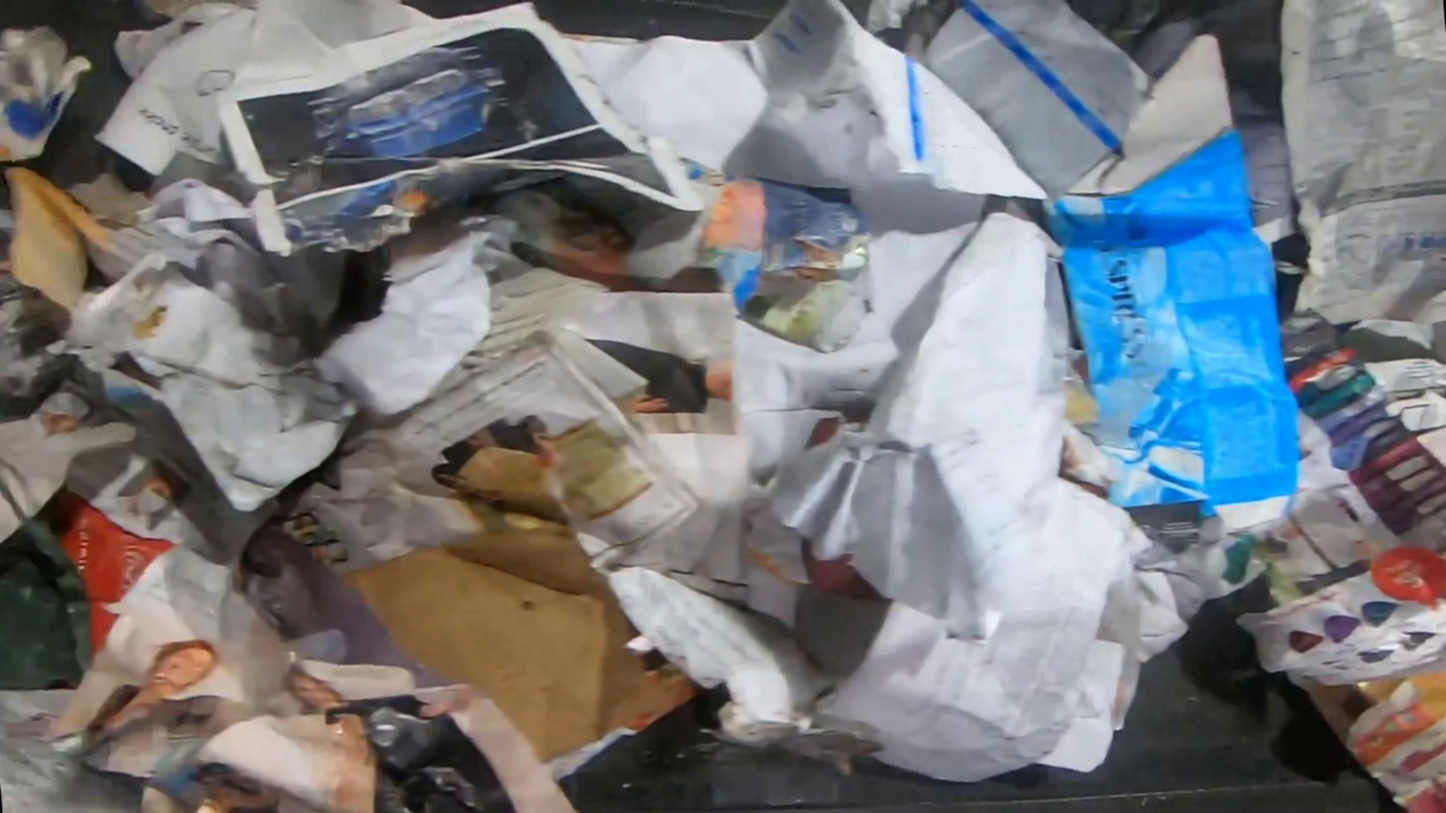cardboard: (1041, 30, 1302, 537), (342, 426, 706, 765), (0, 23, 98, 165)
plastic: (174, 406, 487, 572), (237, 523, 462, 689)
